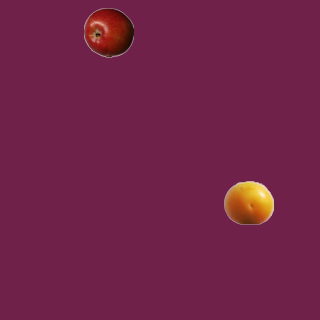Apple Braeburn: (83, 7, 133, 57)
Cherry Wax Yellow: (223, 177, 273, 227)
